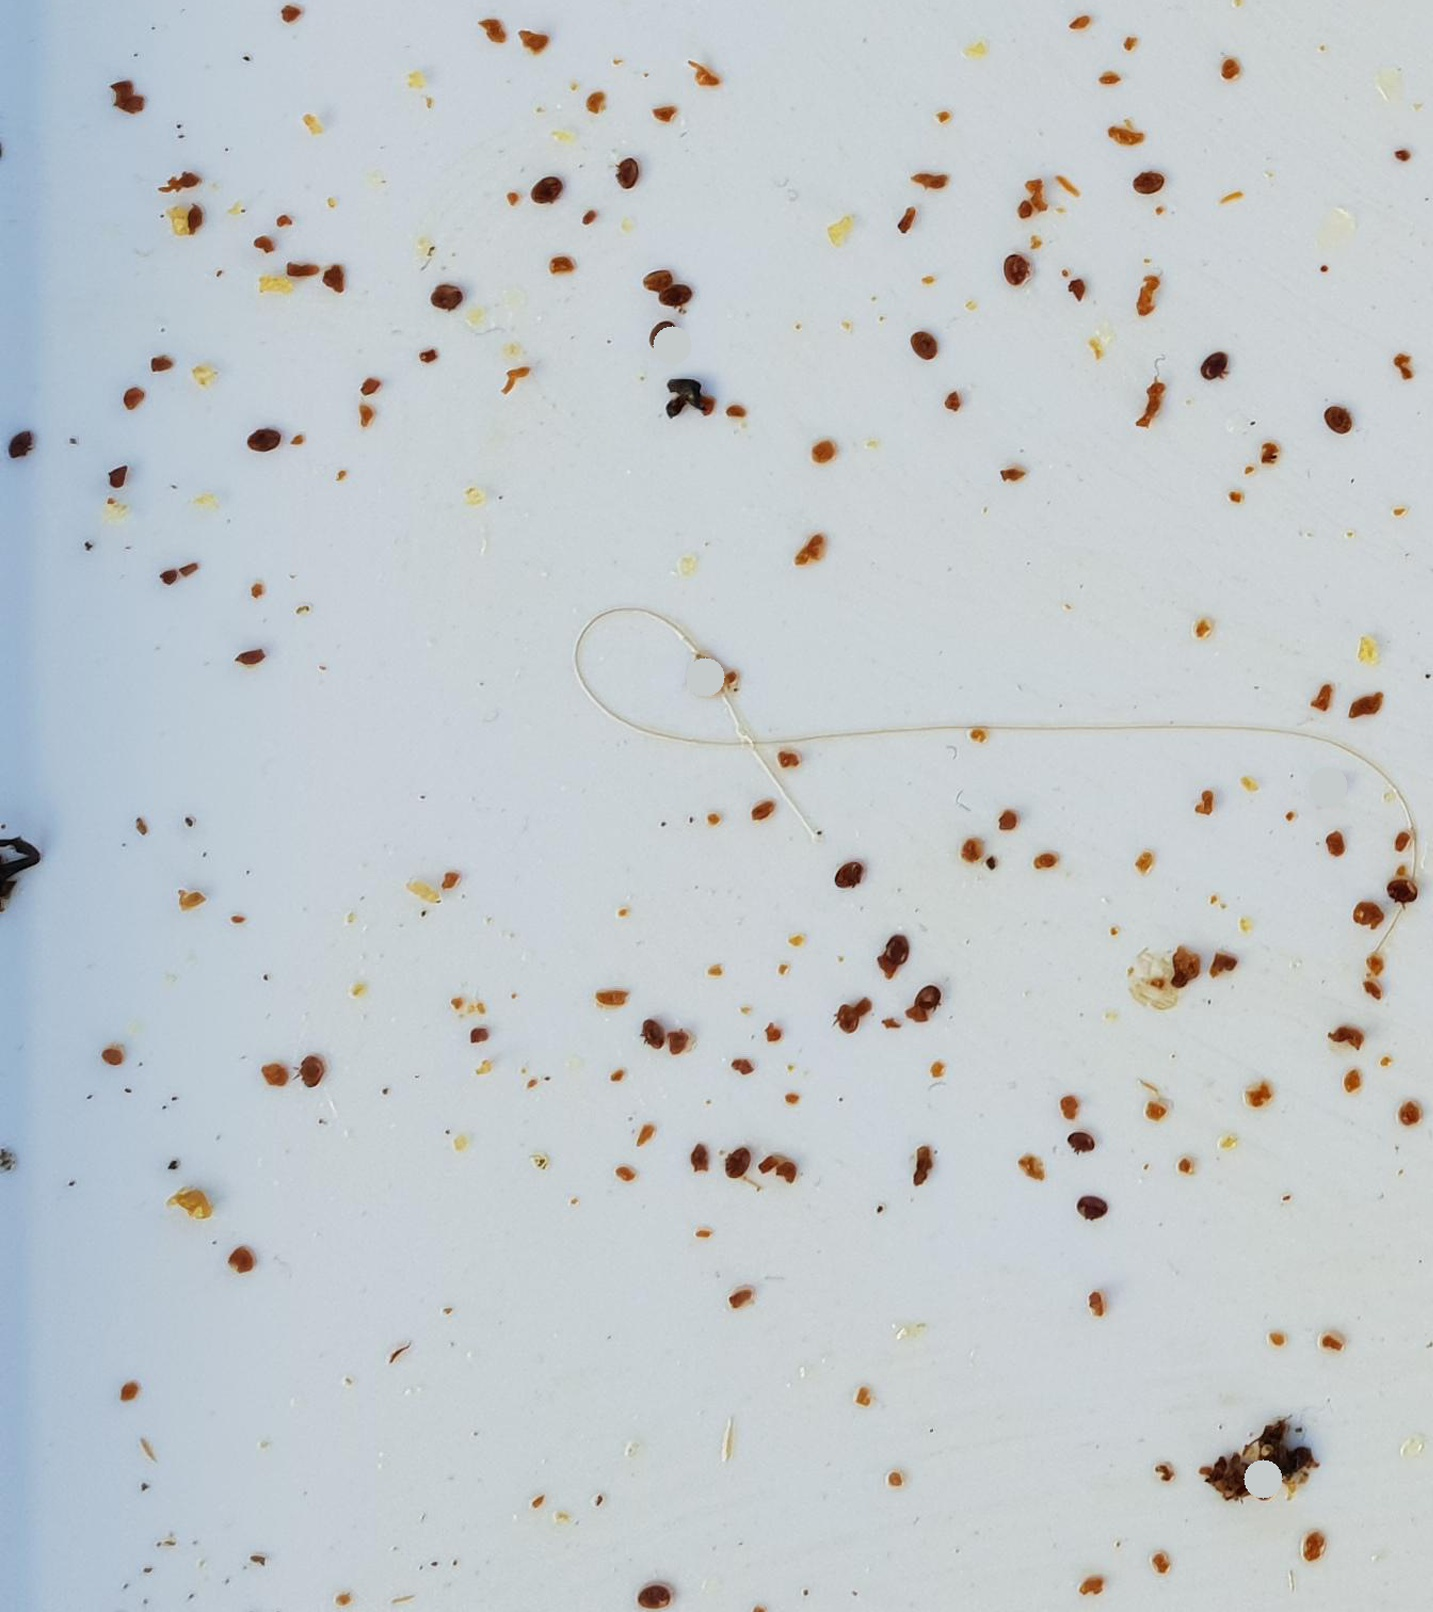Varroa: (1201, 354, 1232, 385), (646, 1017, 674, 1049), (616, 156, 643, 183), (1317, 397, 1342, 426), (300, 1057, 326, 1083), (645, 1575, 669, 1602), (835, 1002, 860, 1029), (1003, 256, 1028, 282), (916, 982, 941, 1009), (837, 863, 862, 888), (541, 174, 564, 201), (12, 430, 36, 455), (436, 280, 459, 304), (725, 1148, 748, 1173), (1138, 170, 1162, 195), (663, 275, 686, 300), (1387, 874, 1411, 898), (1071, 1130, 1093, 1153), (1084, 1200, 1101, 1215), (891, 938, 906, 953), (253, 433, 266, 447), (651, 324, 664, 338), (1338, 414, 1349, 428), (921, 339, 932, 351)
